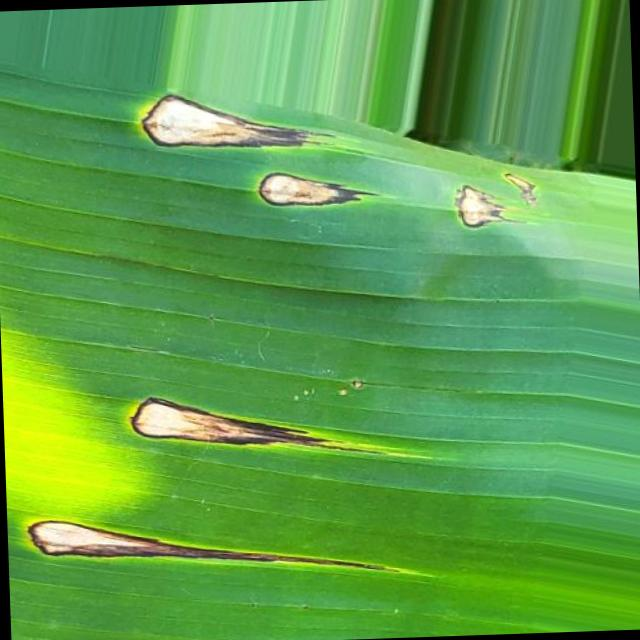Banana_Black_Sigatoka: (114, 51, 554, 293), (105, 334, 394, 481), (6, 483, 253, 615)
